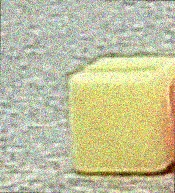yellow_cube: (56, 39, 175, 179)
